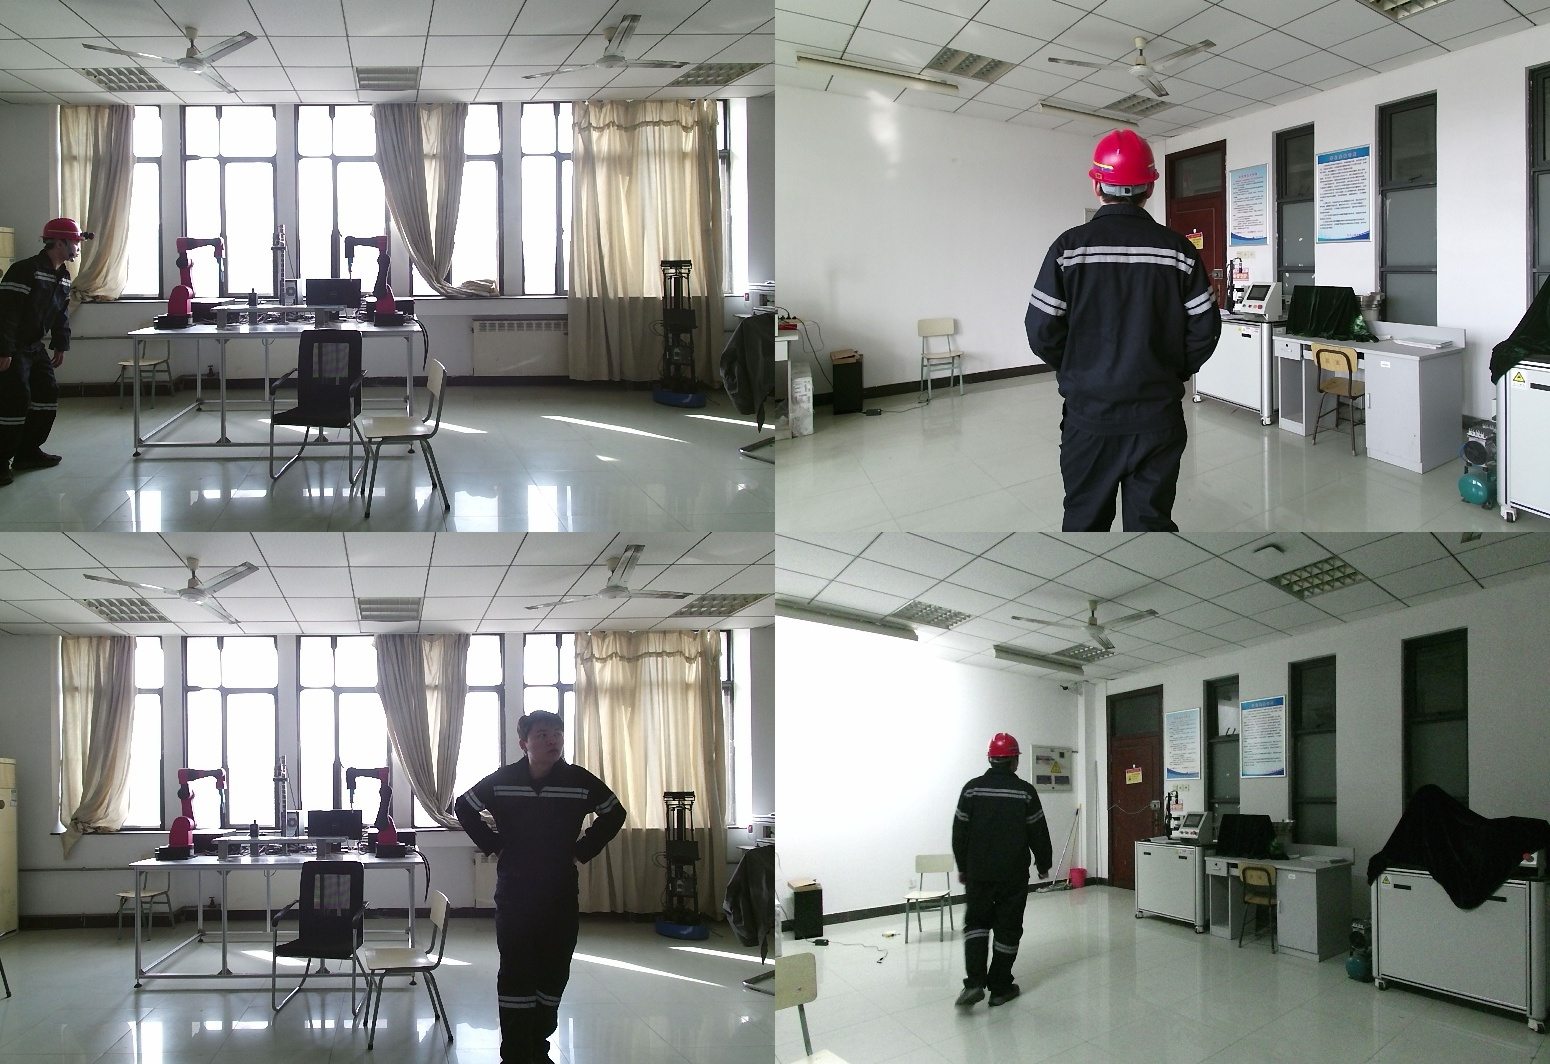person: (1027, 129, 1242, 532), (459, 715, 639, 1063), (943, 733, 1056, 1027), (1, 220, 99, 486)
